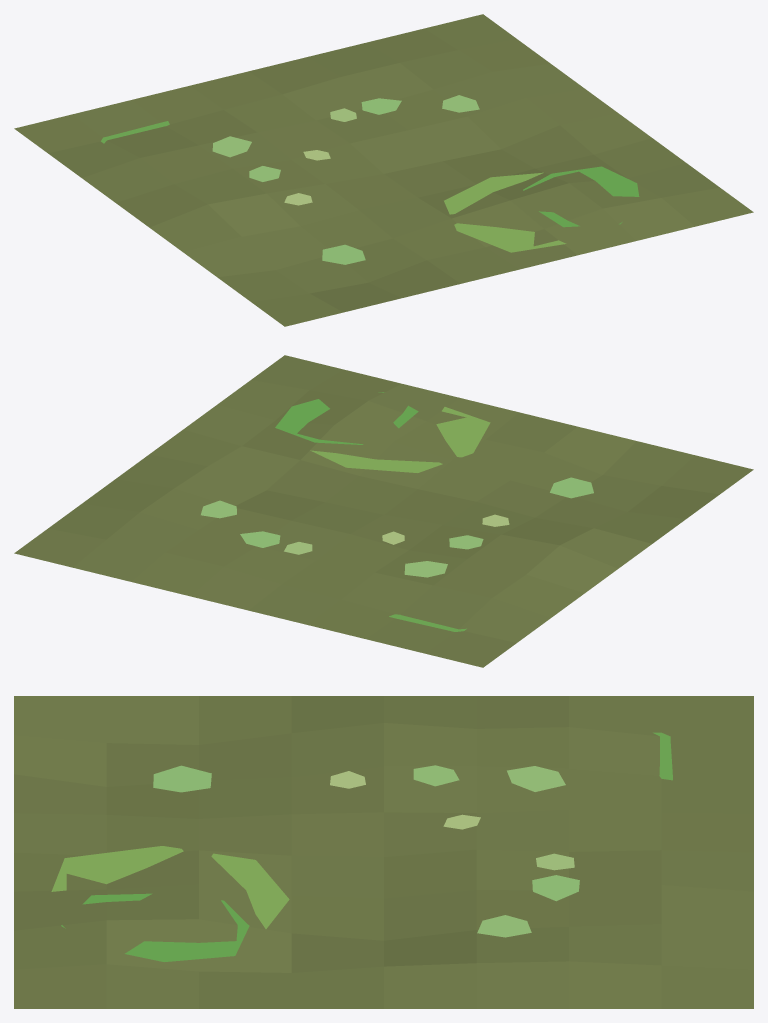
The model's file is acid_v2_lowpoly.glb.
3 renders of one model, top to bottom at view 1: azimuth 30°, elevation 25°; view 2: azimuth 150°, elevation 25°; view 3: azimuth 270°, elevation 25°, orthographic. The views are drawn at different scales.
Visible parts, largest first — view 1: Acid_v2Tile; view 2: Acid_v2Tile; view 3: Acid_v2Tile.
Part boxes in pixels (left/top/right/bottom): Acid_v2Tile: left=14, top=14, right=753, bottom=326; Acid_v2Tile: left=14, top=355, right=753, bottom=667; Acid_v2Tile: left=14, top=696, right=753, bottom=1008.
Size of the model in its own units: 1 by 0.0385 by 1.
